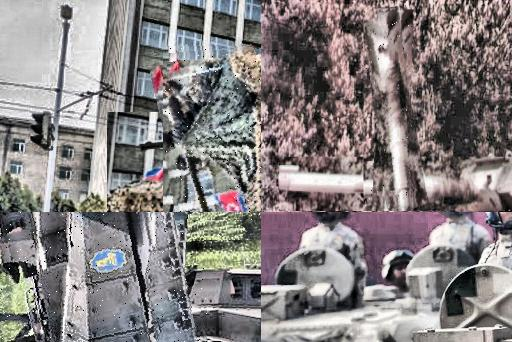tanks: (1, 213, 201, 342), (262, 248, 458, 342), (165, 47, 262, 213), (364, 9, 414, 211), (419, 266, 512, 342)
